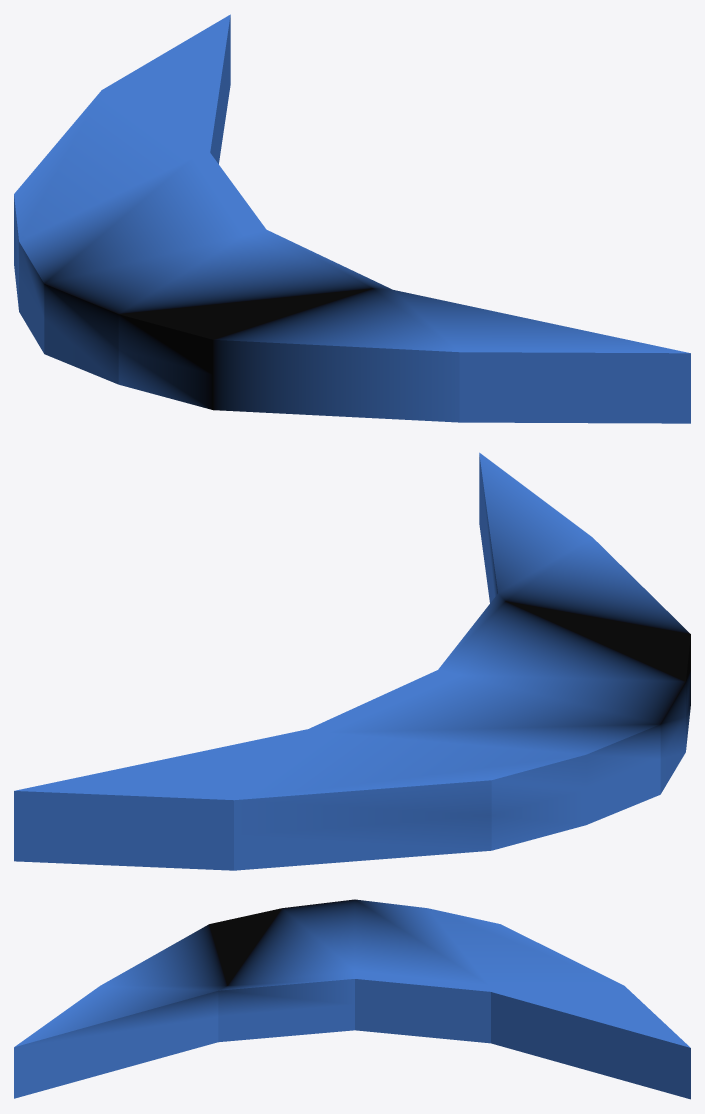
The model's file is boomerang.fbx.
3 views of the same model, one above another, from view 1: azimuth 30°, elevation 25°; view 2: azimuth 150°, elevation 25°; view 3: azimuth 270°, elevation 25° (orthographic). The views are drawn at different scales.
Parts seen in each view (by area): view 1: Cube; view 2: Cube; view 3: Cube.
Part boxes in pixels (<box>): Cube: <box>14,14,690,423</box>; Cube: <box>14,452,690,870</box>; Cube: <box>14,899,690,1099</box>.
Size of the model in its own units: 241 by 39.01 by 465.
